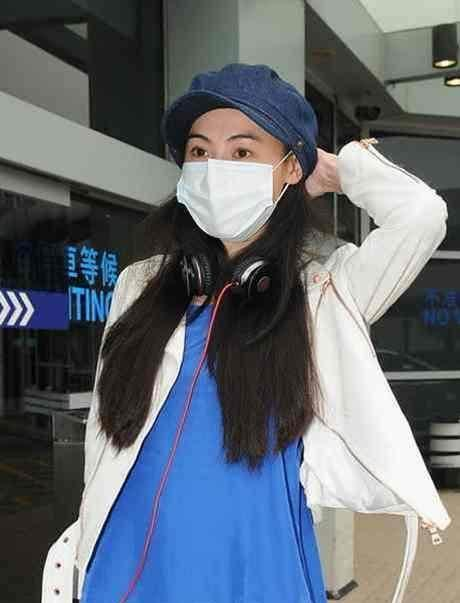mask: (173, 152, 288, 238)
